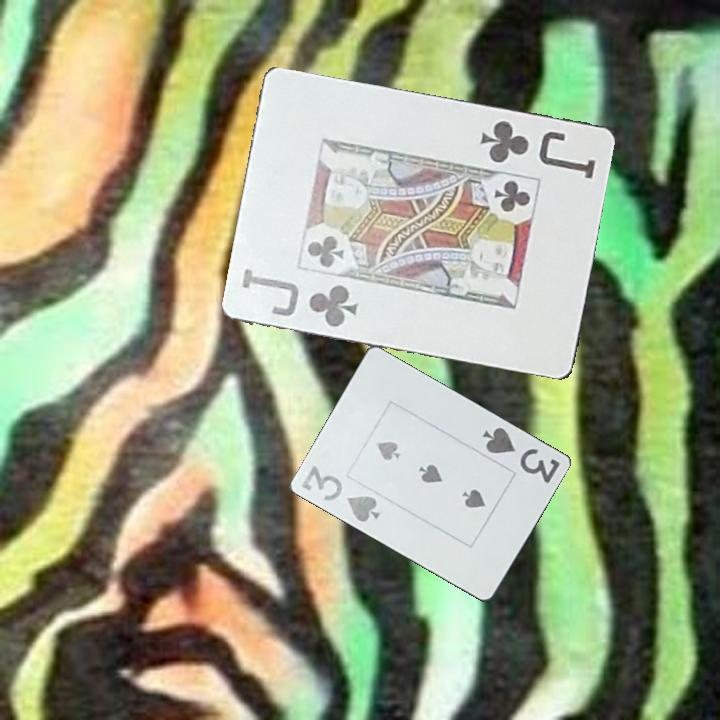3s: (297, 462, 383, 525), (479, 423, 563, 487)
Jc: (476, 116, 600, 182), (239, 264, 362, 330)
